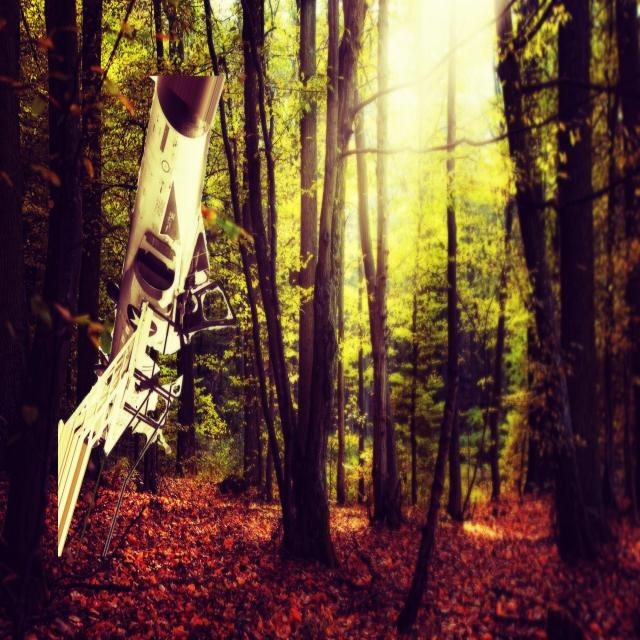airplane: (56, 70, 237, 559)
